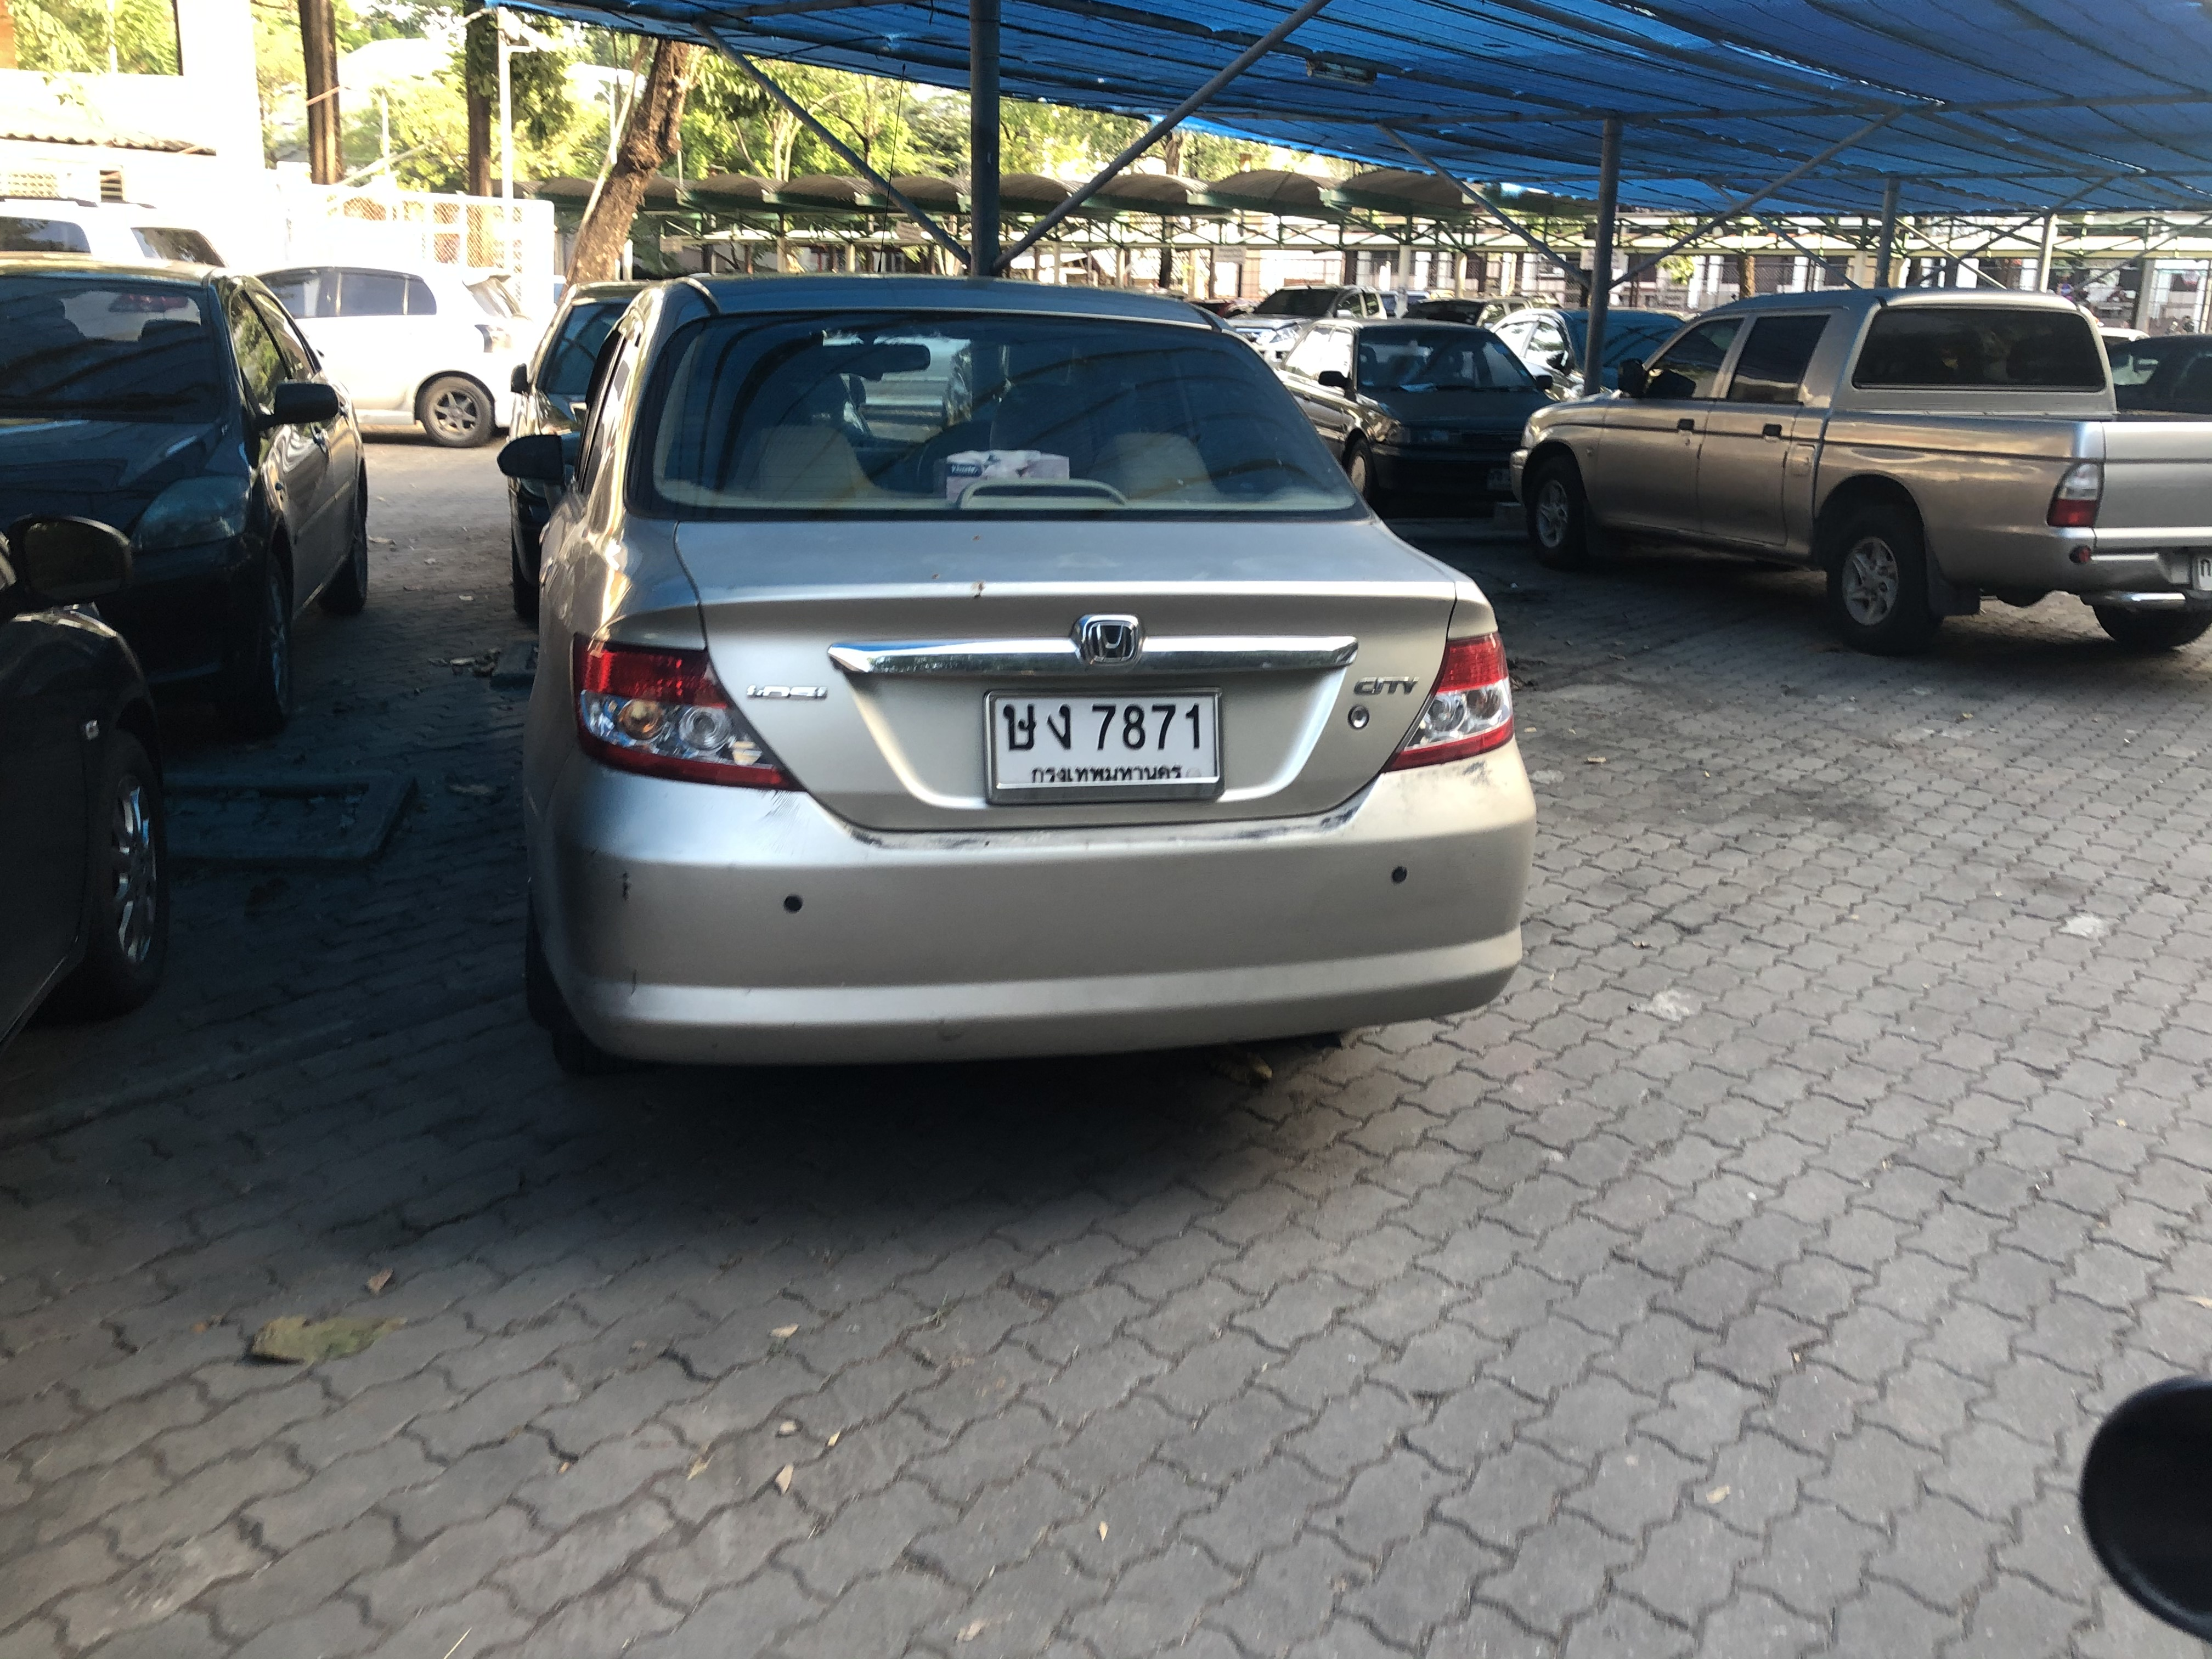in: (993, 706, 1223, 779)
out: (984, 690, 1231, 803)
